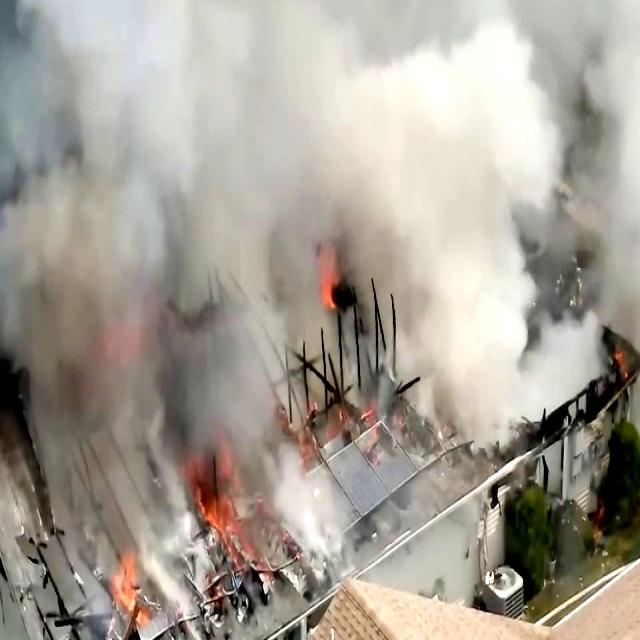smoke: (298, 0, 583, 351), (0, 0, 233, 325)
